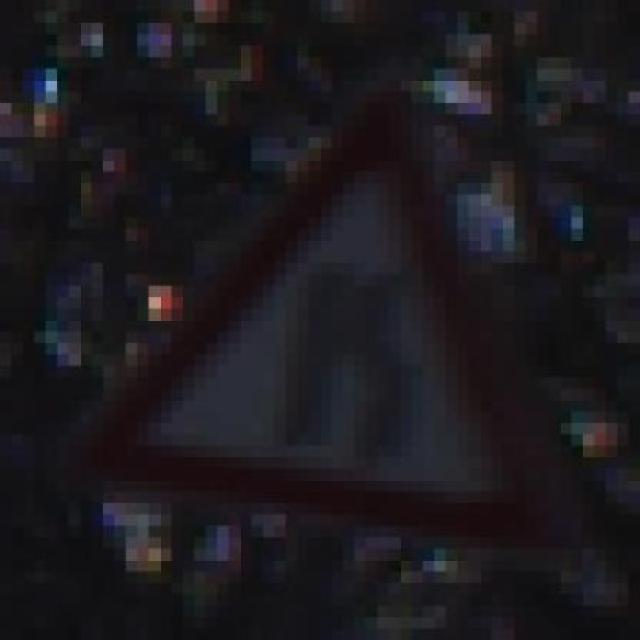-Road narrows on right: (68, 91, 594, 548)
